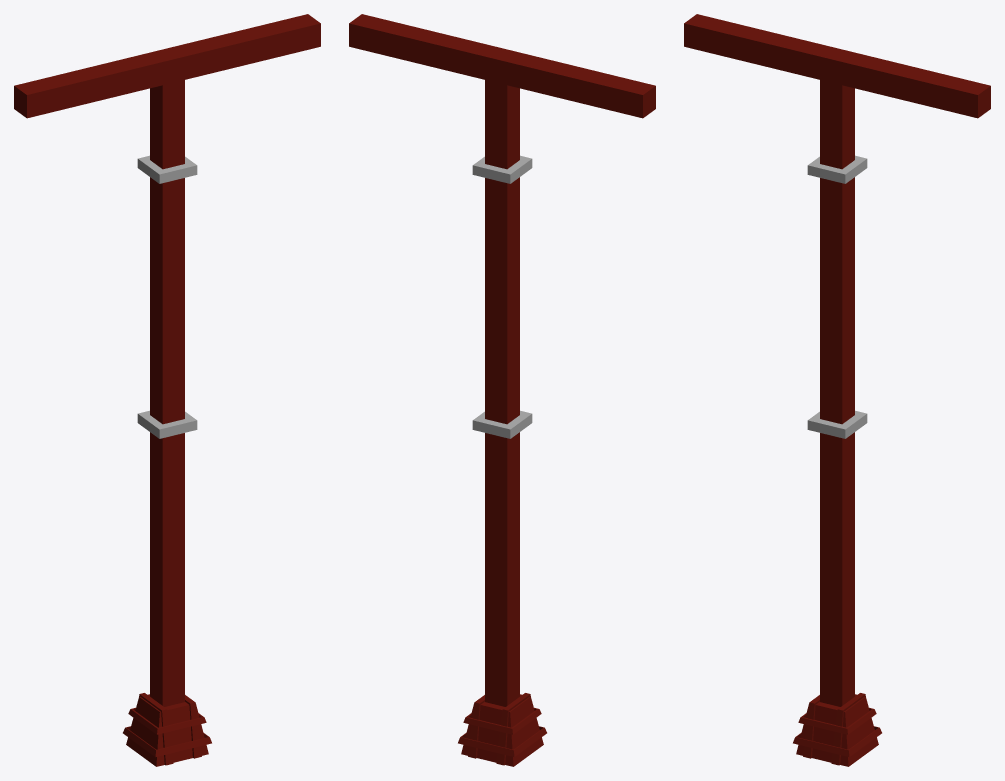
Rendered from Viga.fbx.
3 renders of one model, left to right at view 1: azimuth 30°, elevation 25°; view 2: azimuth 150°, elevation 25°; view 3: azimuth 330°, elevation 25°, orthographic.
Visible parts, largest first — view 1: Viga; view 2: Viga; view 3: Viga.
Boxes of the visible parts, x1,y1,x2,y2 form: Viga: (14,14,320,766); Viga: (349,14,655,766); Viga: (684,14,990,766).
Bounding box in the file's own units: 325 × 733 × 63.09.
